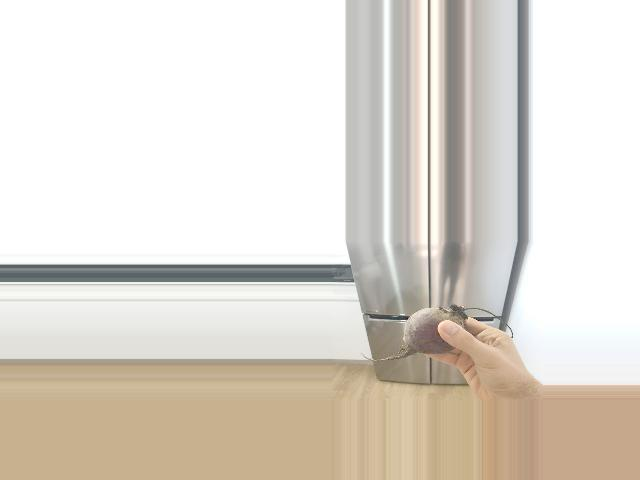beet: (359, 304, 512, 361)
